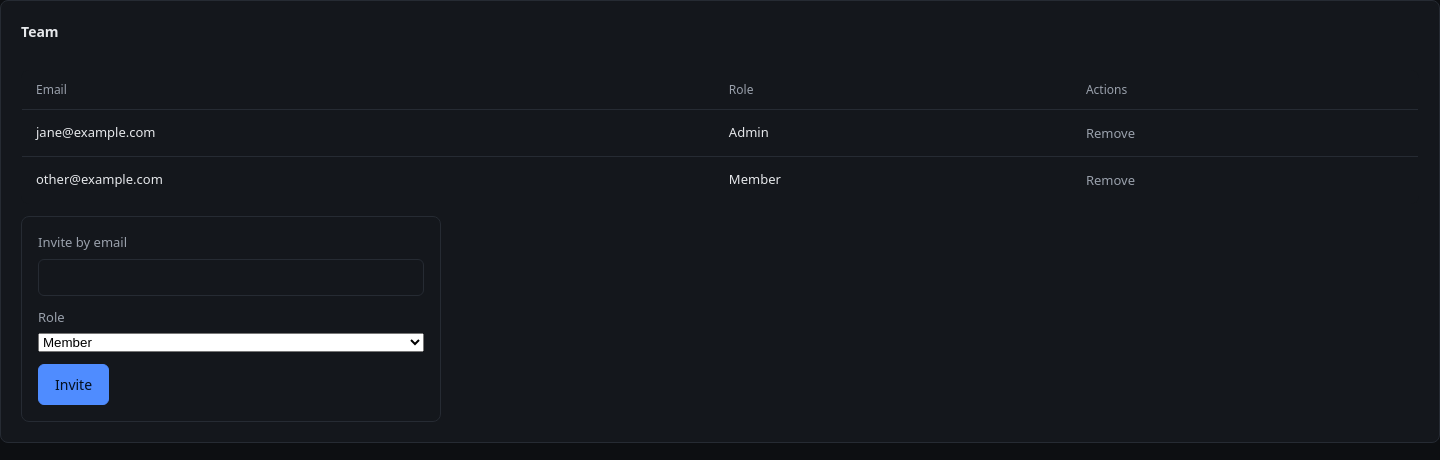
Test case: OrgMembersPanel › removing a member › asks for confirmation before removing
Click the button "Remove" in the row of "other@example.com": click(1110, 180) x1=1086 y1=167 x2=1135 y2=193
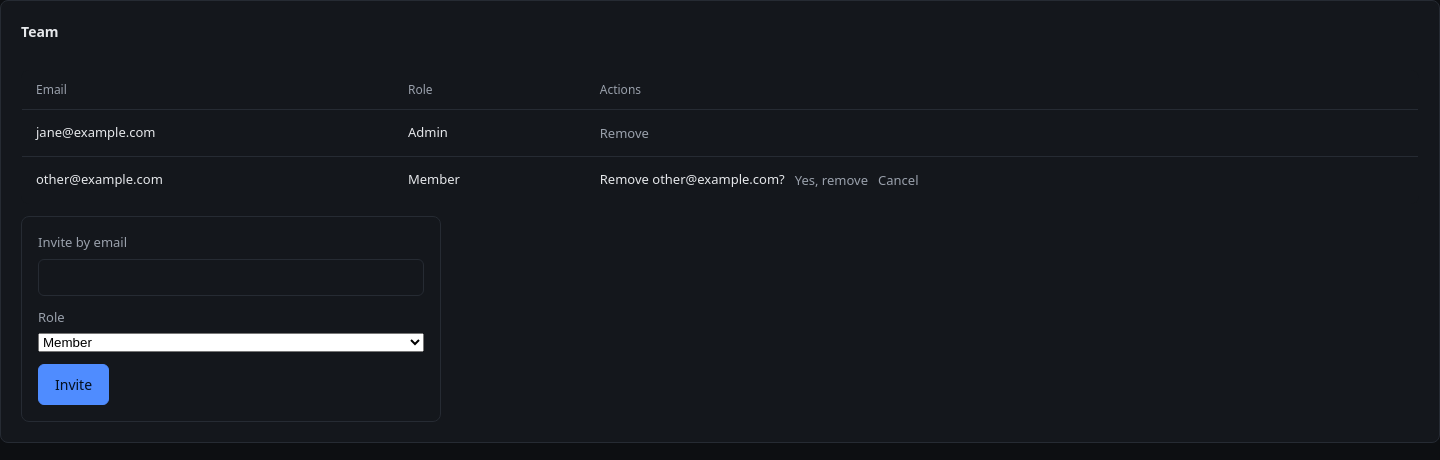
Expected: the text "Remove other@example.com?" is shown, x1=600 y1=170 x2=785 y2=190
